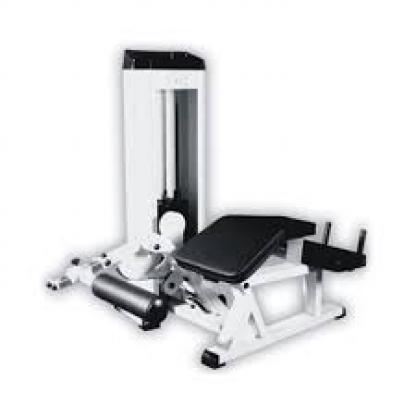reg curl machine: (43, 48, 373, 374)
